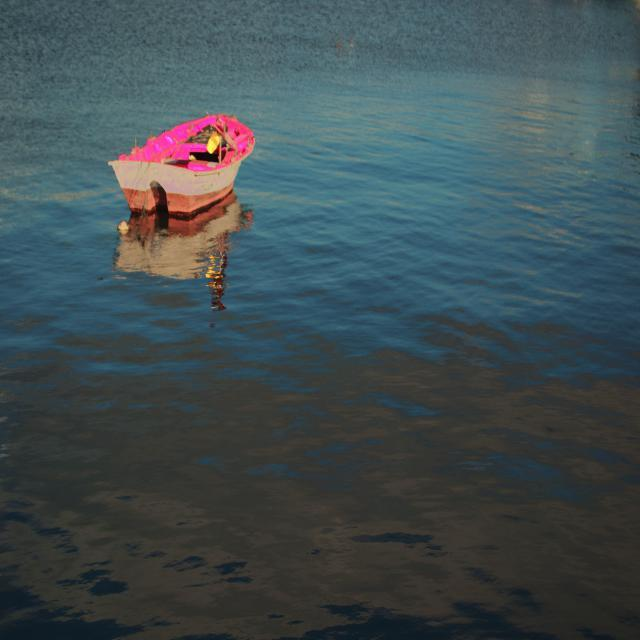ship: (108, 106, 259, 226)
